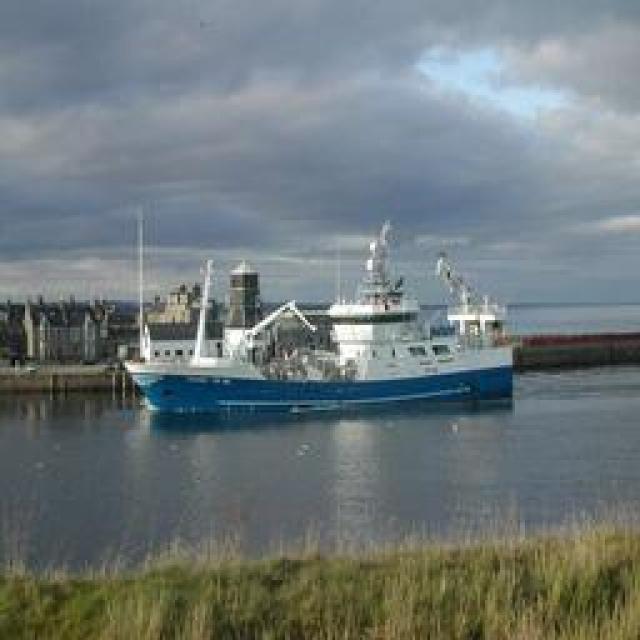ship: (131, 242, 519, 412)
